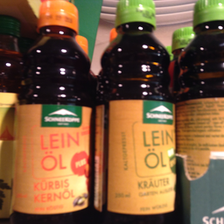oil: (10, 1, 96, 223), (96, 1, 178, 223)
